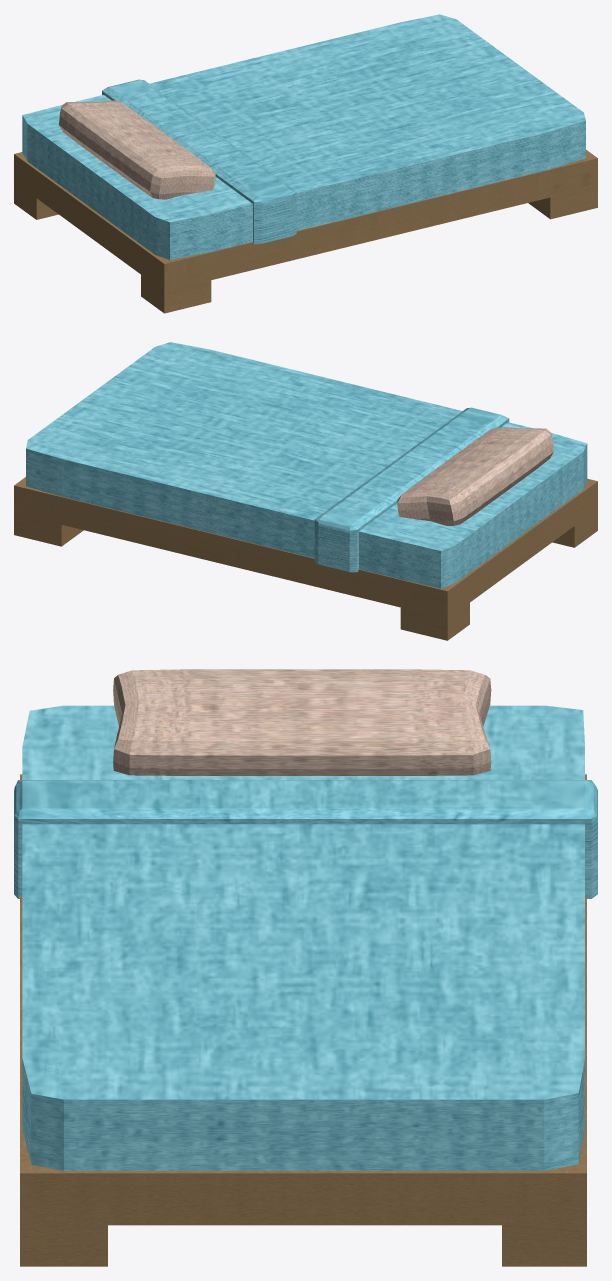
Rendered from Cama.fbx.
3 renders of one model, top to bottom at view 1: azimuth 30°, elevation 25°; view 2: azimuth 150°, elevation 25°; view 3: azimuth 270°, elevation 25°, orthographic. The views are drawn at different scales.
Visible parts, largest first — view 1: Cube, Cube.001, Cube.002; view 2: Cube, Cube.001, Cube.002; view 3: Cube, Cube.001, Cube.002.
Boxes of the visible parts, x1=… form: Cube: x1=22, y1=14, x2=585, y2=259; Cube.001: x1=14, y1=150, x2=597, y2=313; Cube.002: x1=59, y1=100, x2=215, y2=199; Cube: x1=26, y1=342, x2=587, y2=588; Cube.001: x1=14, y1=477, x2=597, y2=640; Cube.002: x1=397, y1=427, x2=553, y2=525; Cube: x1=14, y1=705, x2=597, y2=1170; Cube.001: x1=20, y1=774, x2=586, y2=1266; Cube.002: x1=113, y1=669, x2=491, y2=775.
Bounding box in the file's own units: 994 × 255 × 615.
3 materials, 3 textured.
